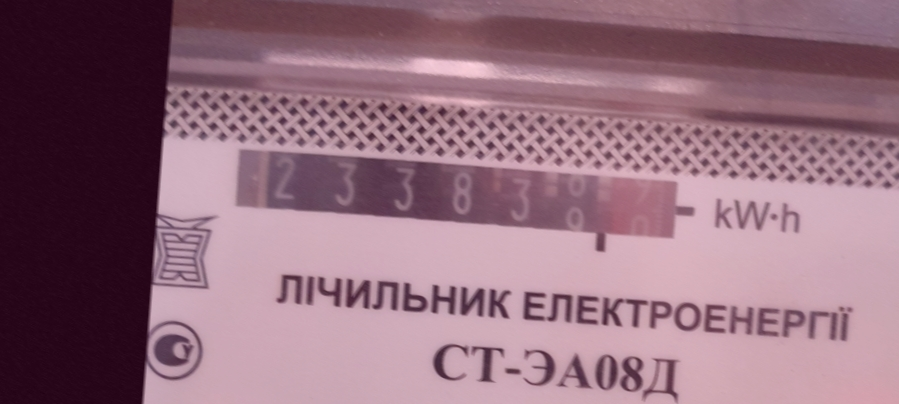0: (629, 213, 653, 241)
2: (273, 156, 300, 204)
3: (330, 159, 362, 210), (388, 164, 420, 215), (507, 176, 534, 224)
8: (448, 171, 478, 219), (565, 173, 590, 202)
9: (631, 177, 655, 208), (564, 205, 587, 235)
screen: (223, 139, 701, 264)
